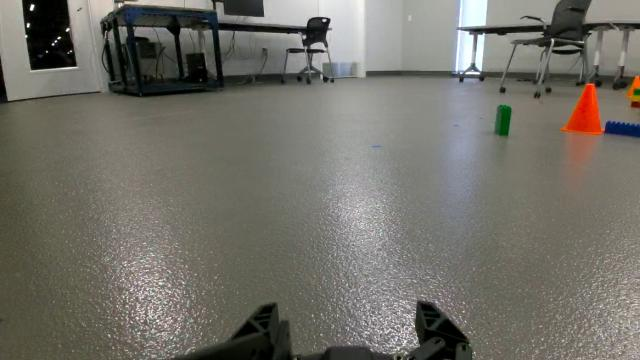lego: (487, 96, 522, 141)
